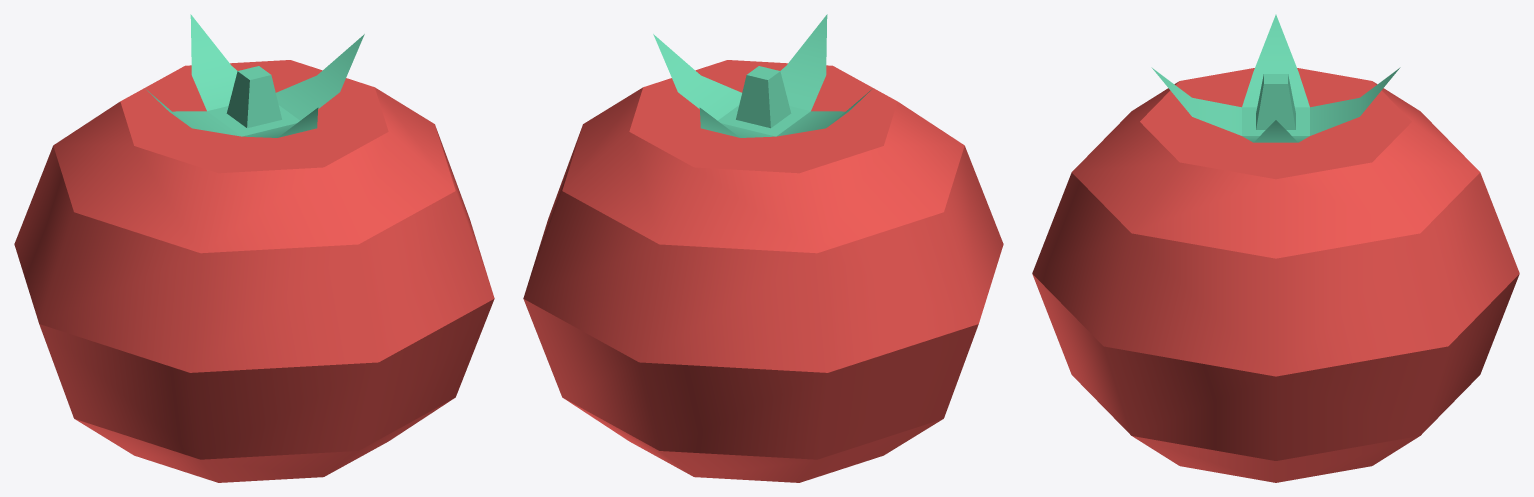
The model's file is Tomato.glb.
The picture shows the model from 3 angles, left to right: view 1: azimuth 30°, elevation 25°; view 2: azimuth 150°, elevation 25°; view 3: azimuth 270°, elevation 25°; orthographic projection.
Parts seen in each view (by area): view 1: tomato; view 2: tomato; view 3: tomato.
Part boxes in pixels (left/top/right/bottom): tomato: left=14, top=14, right=494, bottom=482; tomato: left=523, top=14, right=1003, bottom=482; tomato: left=1032, top=14, right=1519, bottom=482.
Bounding box in the file's own units: 0.1697 × 0.1377 × 0.1697.
